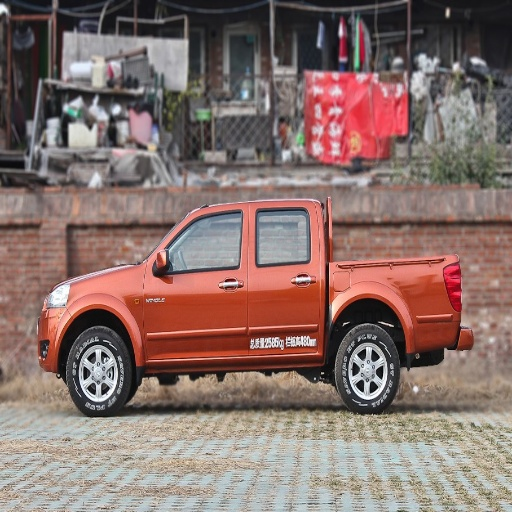back_left_door: (249, 204, 320, 347)
front_left_door: (144, 208, 249, 357)
trunk: (316, 262, 454, 354)
